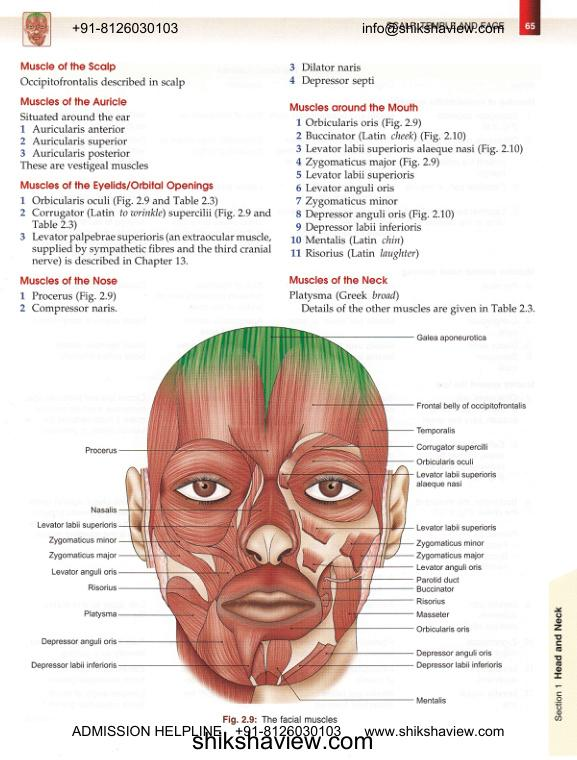caption: (222, 714, 339, 726)
image: (18, 319, 533, 712)
list: (288, 116, 525, 262), (18, 193, 275, 269), (19, 123, 131, 161), (17, 290, 119, 316), (288, 61, 376, 90)
sub-section-heading: (19, 179, 215, 192), (288, 101, 420, 114), (19, 60, 117, 73), (19, 96, 128, 107), (288, 275, 389, 286), (19, 275, 118, 286)
text: (288, 289, 536, 316), (19, 75, 186, 90), (19, 161, 150, 173), (19, 111, 131, 123)
